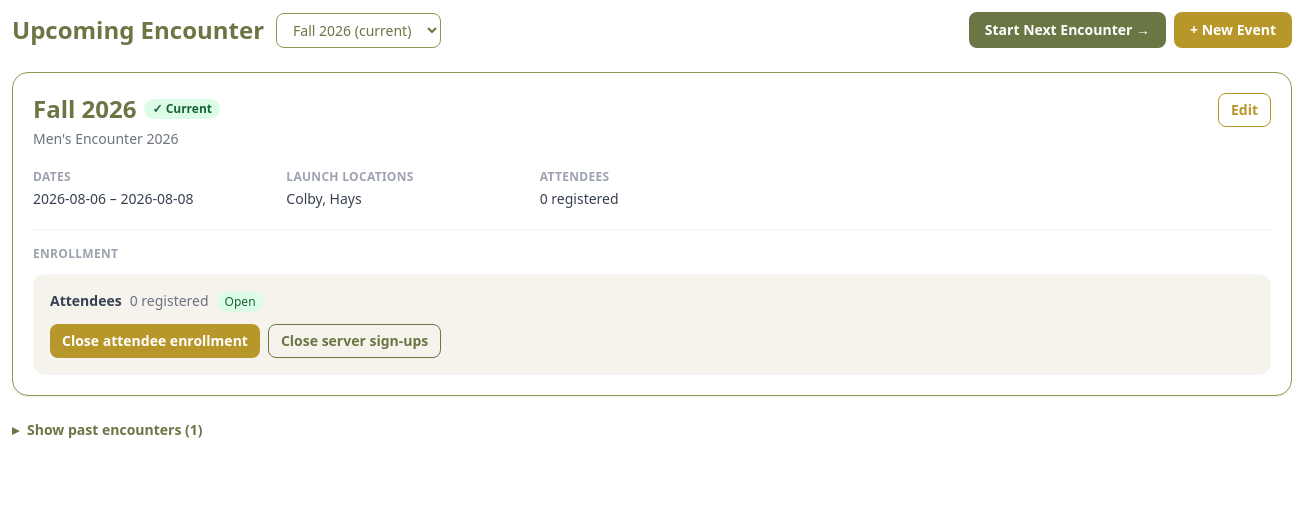
it: Events page › picking a past encounter from the list loads it into the panel
Expected: the heading "Fall 2026" is shown, [33,93,136,125]
Click the button with test id "toggle-past-encounters". click: (107, 430)
box: [12,420,202,440]
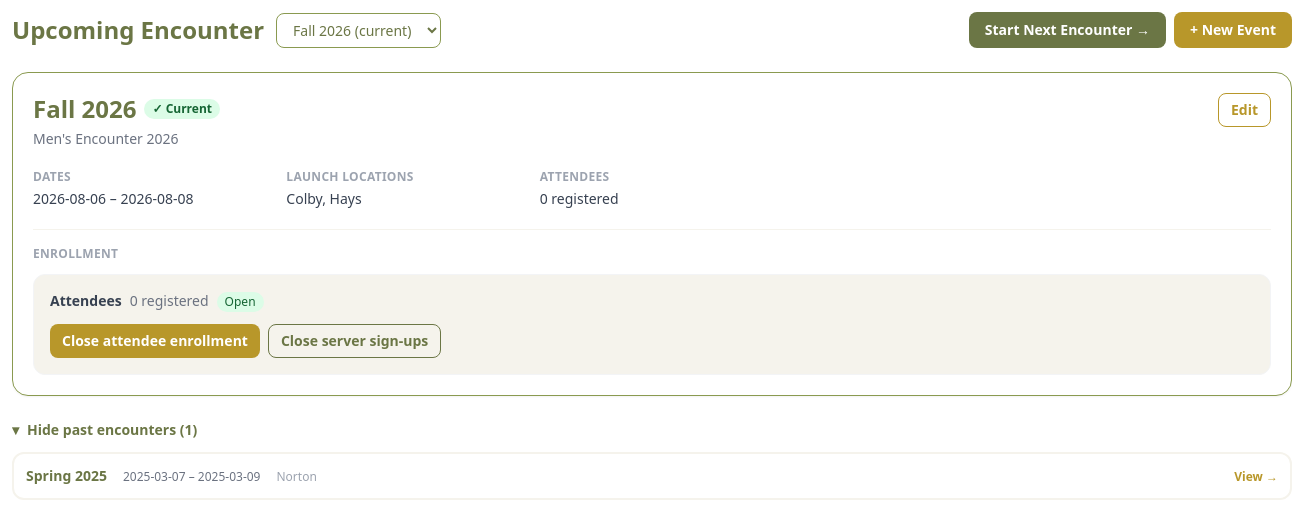
Click the button with aria-label "view Spring 2025". click: (66, 476)
box: [12,452,1292,500]
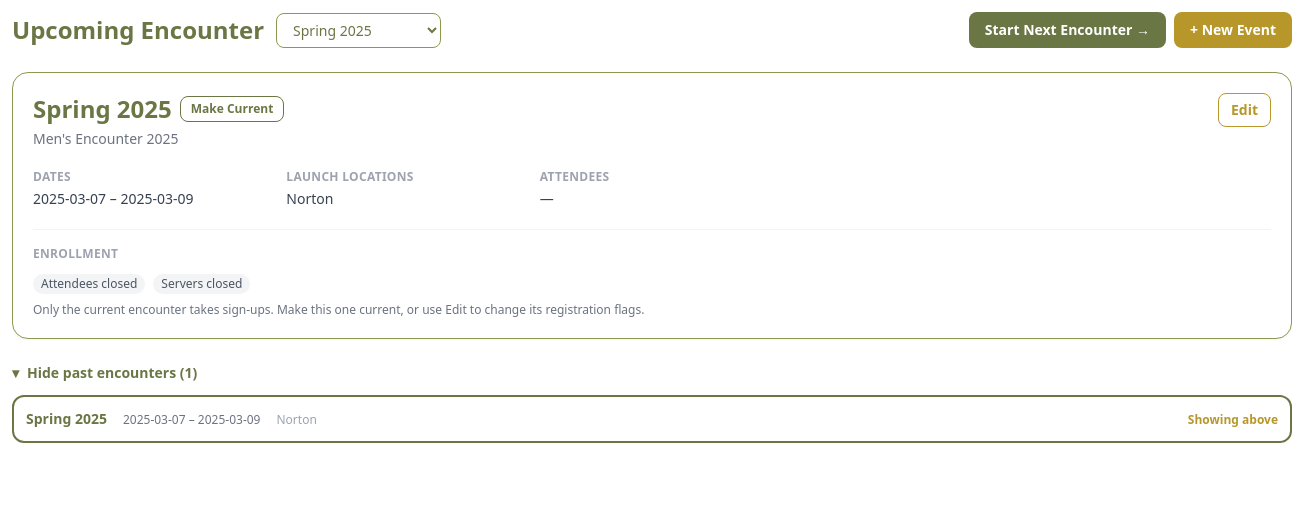
Expected: the heading "Spring 2025" is shown, [33,93,172,125]
Expected: the button with aria-label "make Spring 2025 current" is shown, [180,96,284,122]
